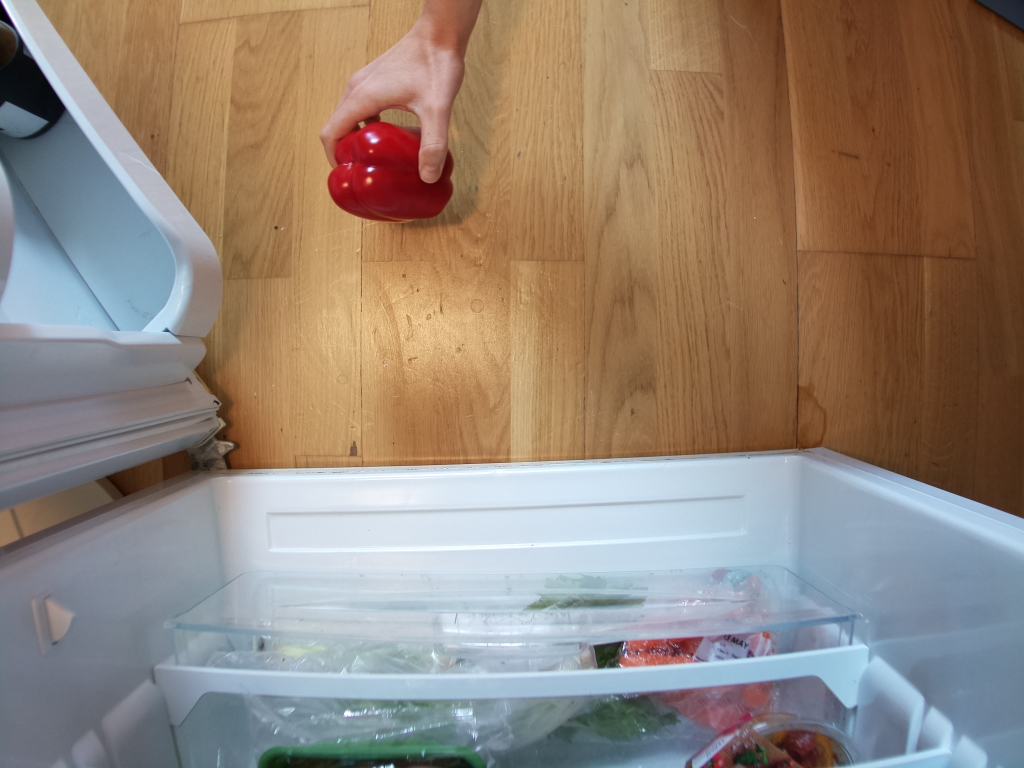pepper: (325, 119, 454, 225)
